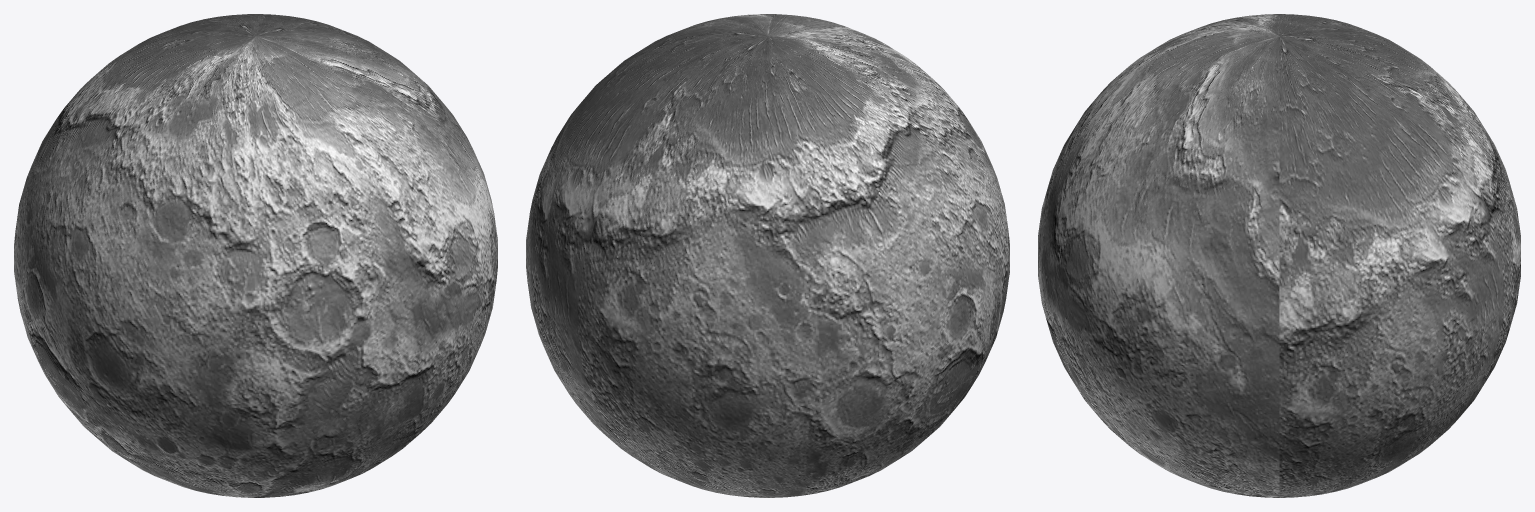
Rendered from moon-transformed.glb.
The picture shows the model from 3 angles, left to right: view 1: azimuth 30°, elevation 25°; view 2: azimuth 150°, elevation 25°; view 3: azimuth 270°, elevation 25°; orthographic projection.
Parts seen in each view (by area): view 1: Sphere; view 2: Sphere; view 3: Sphere.
Part boxes in pixels (left/top/right/bottom): Sphere: left=14, top=14, right=497, bottom=497; Sphere: left=526, top=14, right=1009, bottom=497; Sphere: left=1038, top=14, right=1520, bottom=497.
Size of the model in its own units: 2 by 2 by 1.99.
Materials: 1 (1 with a texture image).
